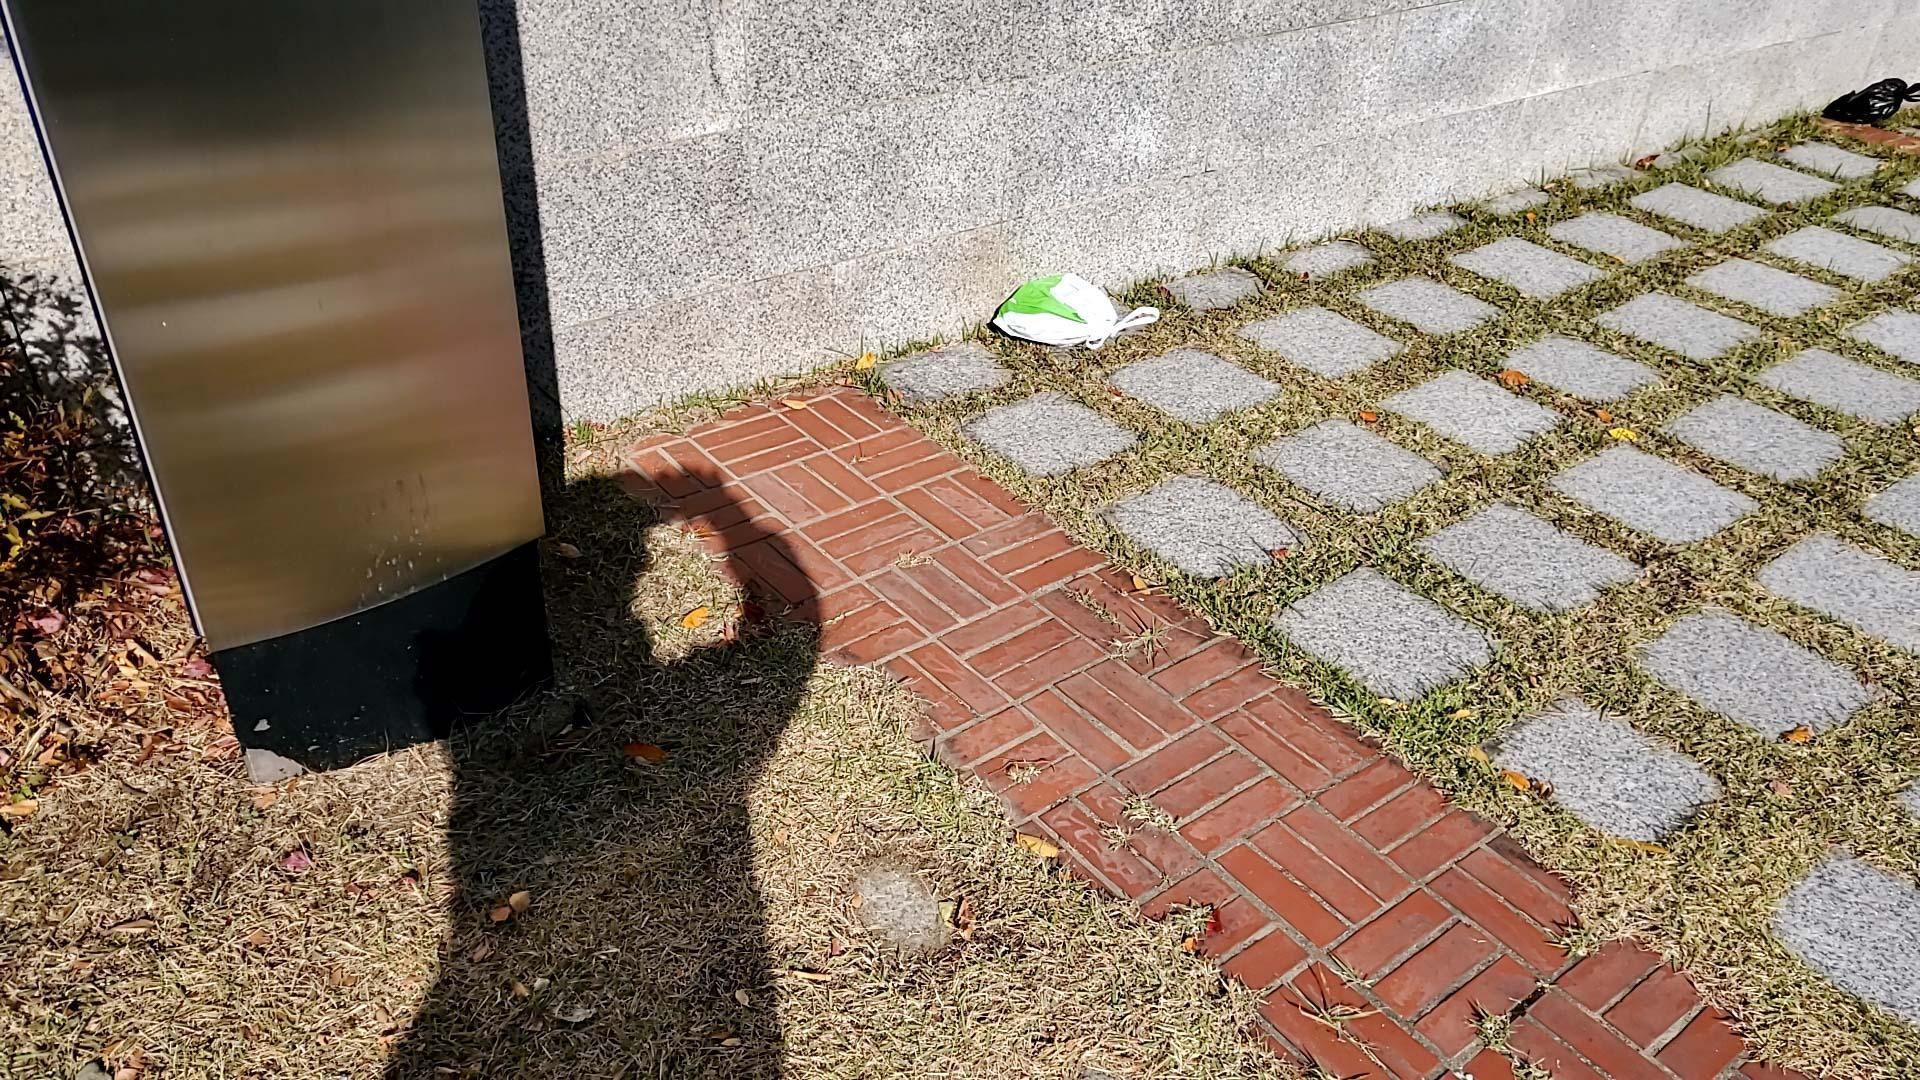white_bag: (973, 265, 1167, 369)
